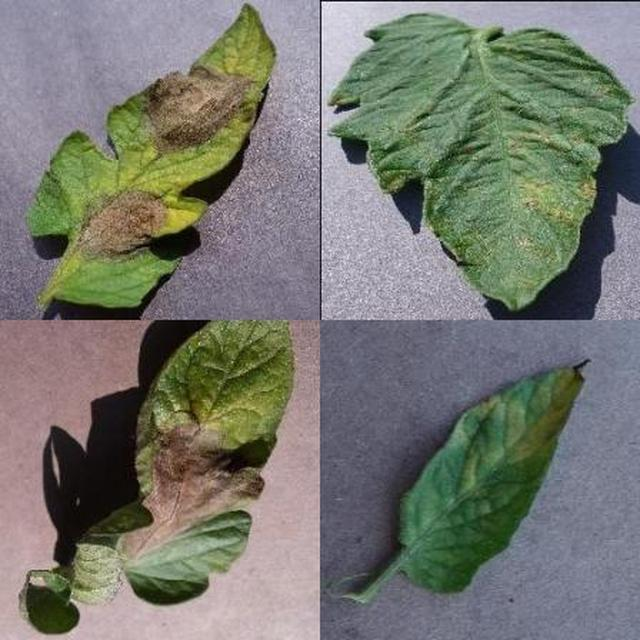Late Blight Leaf: (213, 220, 640, 640)
